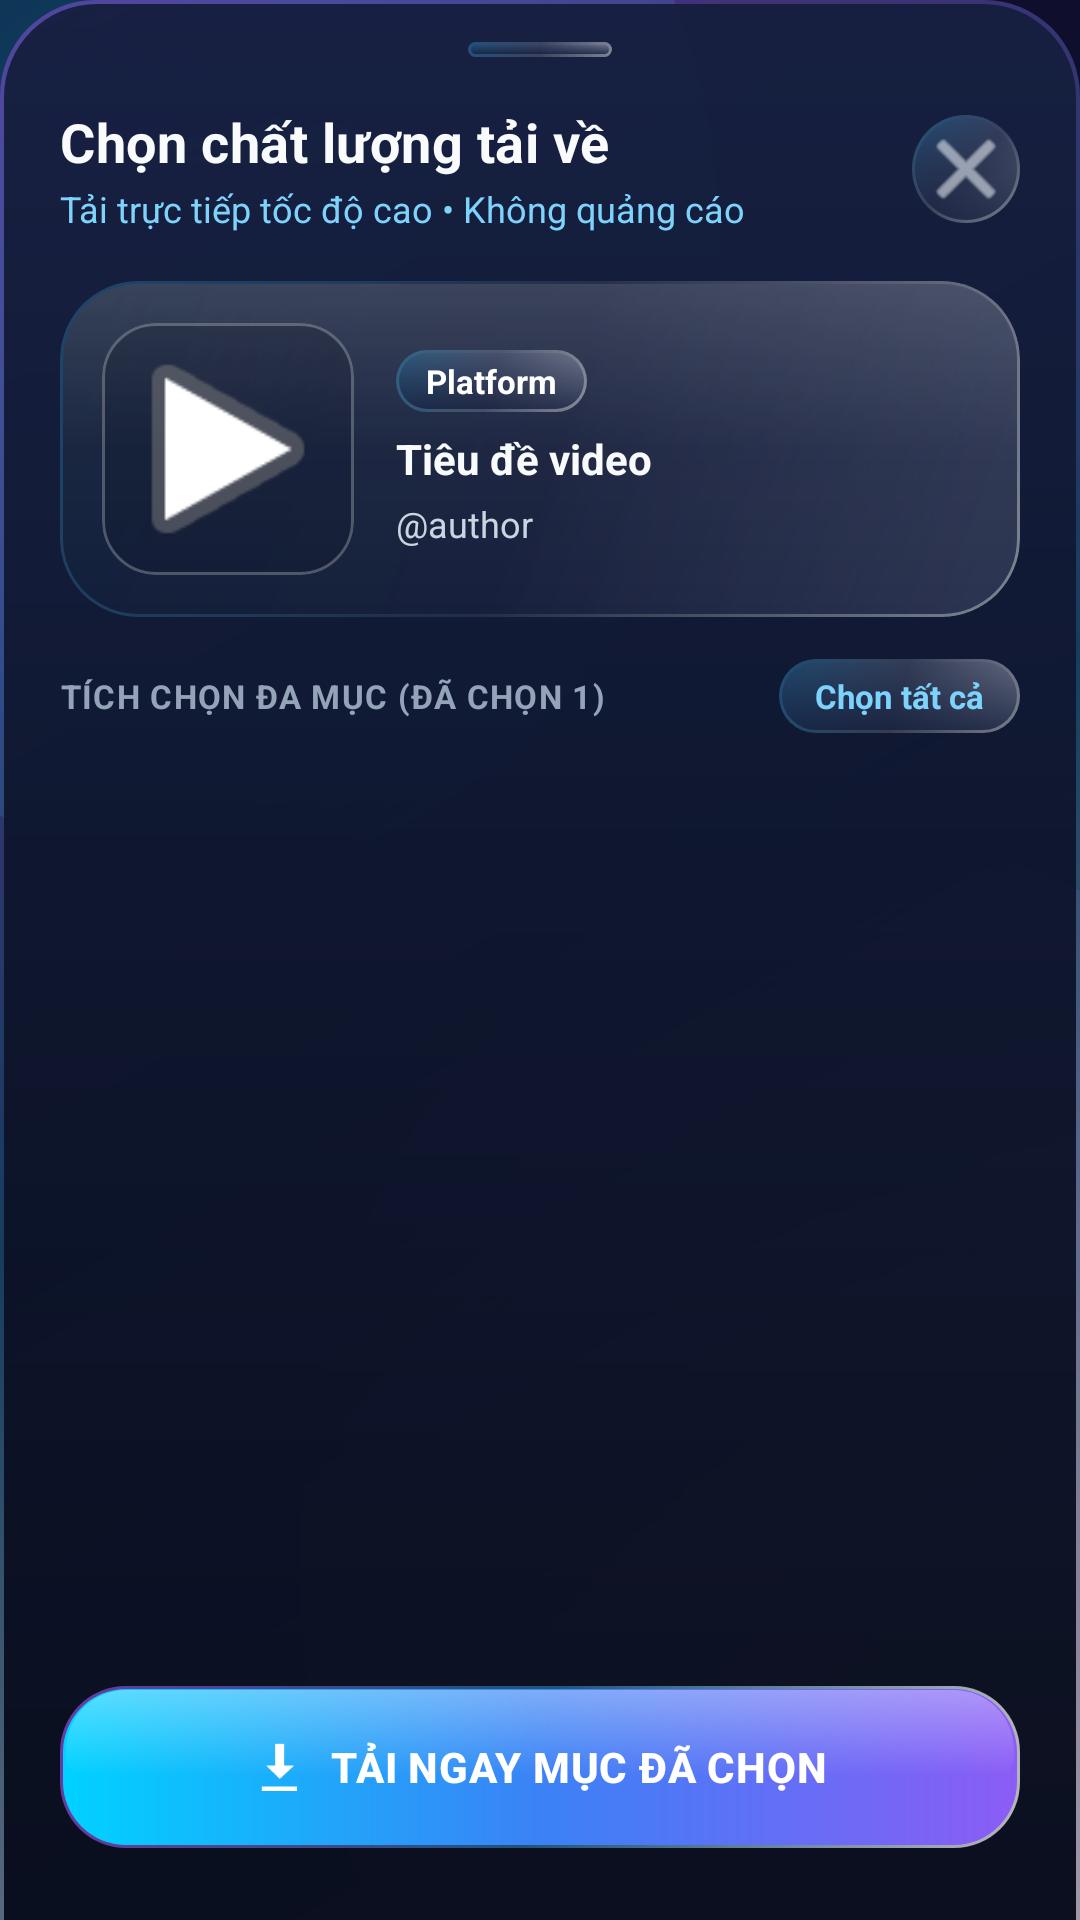

Locate icon controls on the screen. Image size 1080w x 1920h, boxes as bbox(x1, y1, x2, y2).
Đóng: bbox(912, 115, 1020, 223)
